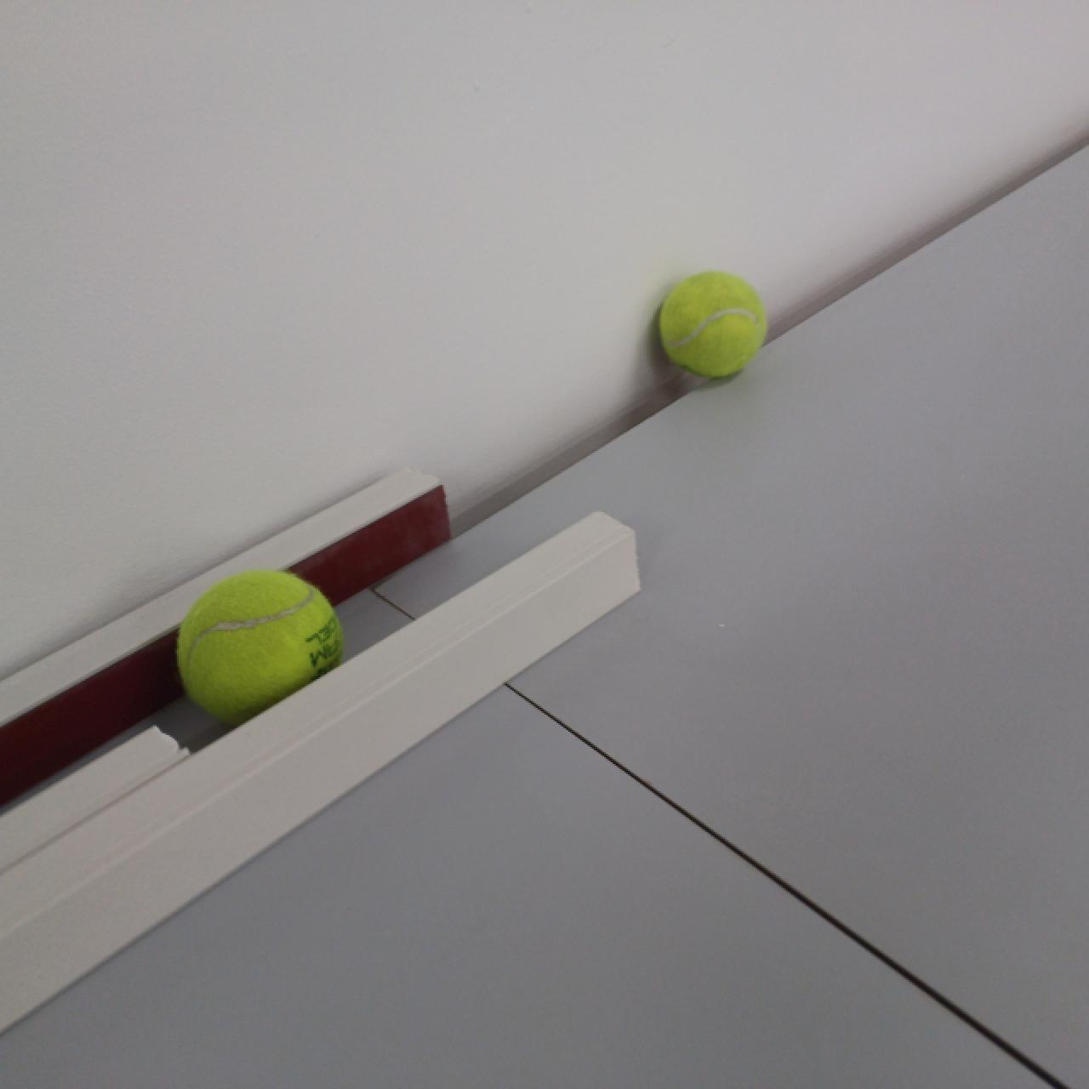tennis-ball: (172, 571, 348, 738), (656, 271, 769, 380)
